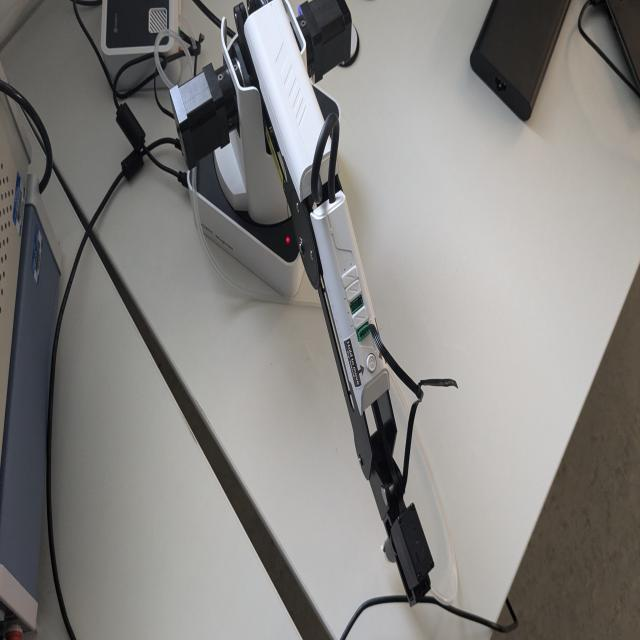Robot-end-effector-HF8z: (379, 501, 436, 609)
